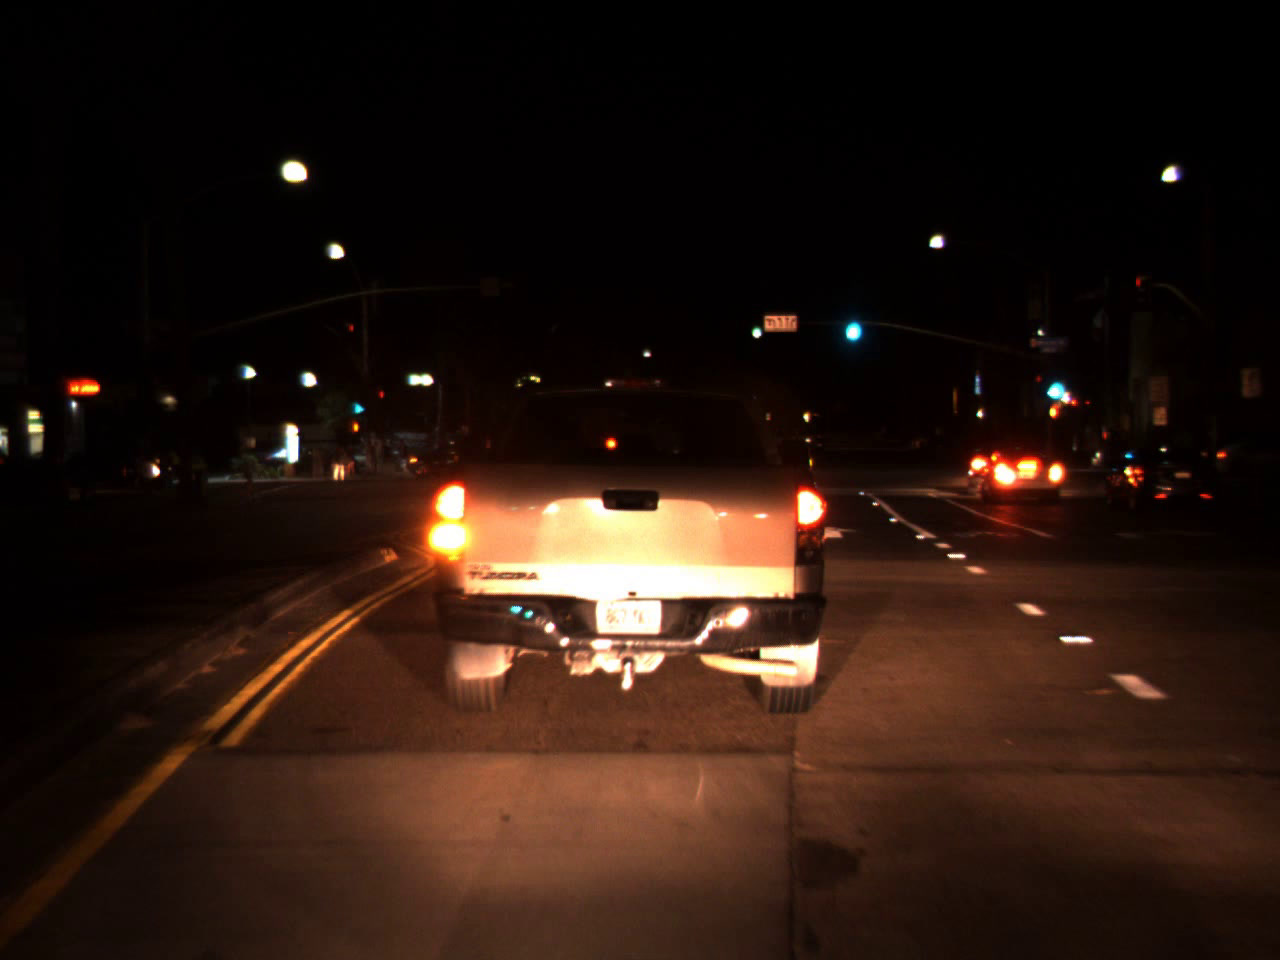go: (1037, 364, 1071, 403), (839, 301, 864, 348), (349, 385, 370, 421), (749, 319, 763, 337)
